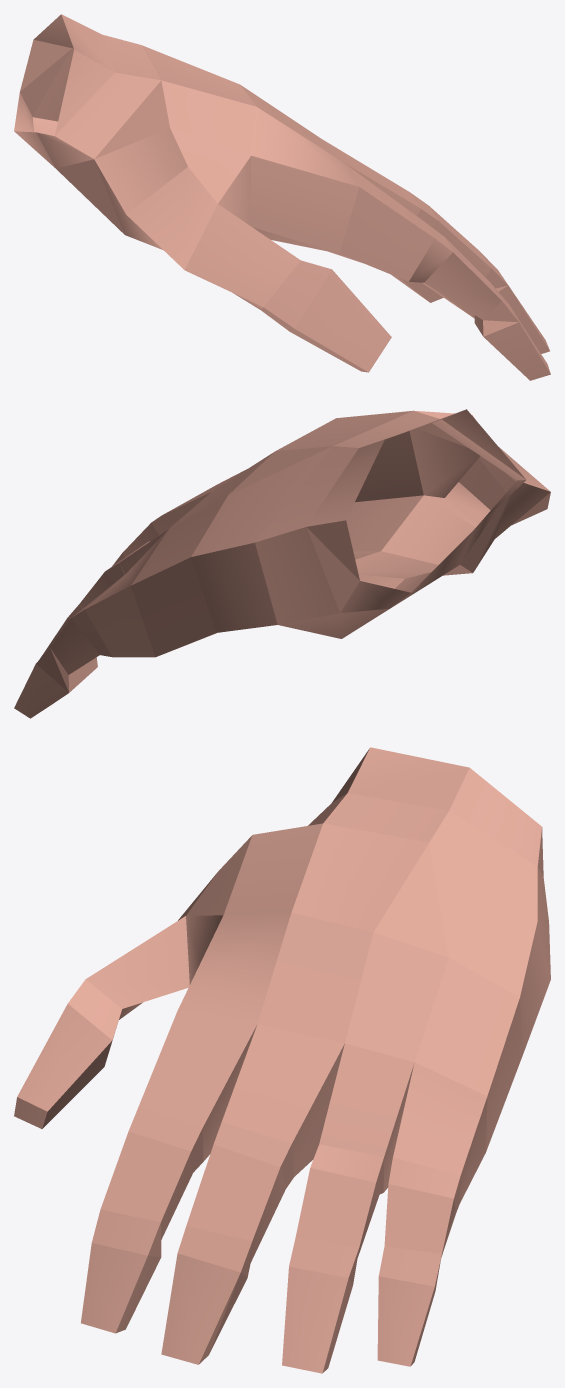
The model's file is cutrmumlhand.fbx.
The picture shows the model from 3 angles, top to bottom: view 1: azimuth 30°, elevation 25°; view 2: azimuth 150°, elevation 25°; view 3: azimuth 270°, elevation 25°; orthographic projection. The views are drawn at different scales.
Visible parts, largest first — view 1: mum.024; view 2: mum.024; view 3: mum.024.
Part boxes in pixels (x1,y1,x2,y2): mum.024: (14, 14, 550, 380); mum.024: (14, 409, 550, 718); mum.024: (14, 747, 550, 1373).
Bounding box in the file's own units: 17.82 × 13.54 × 16.21.
